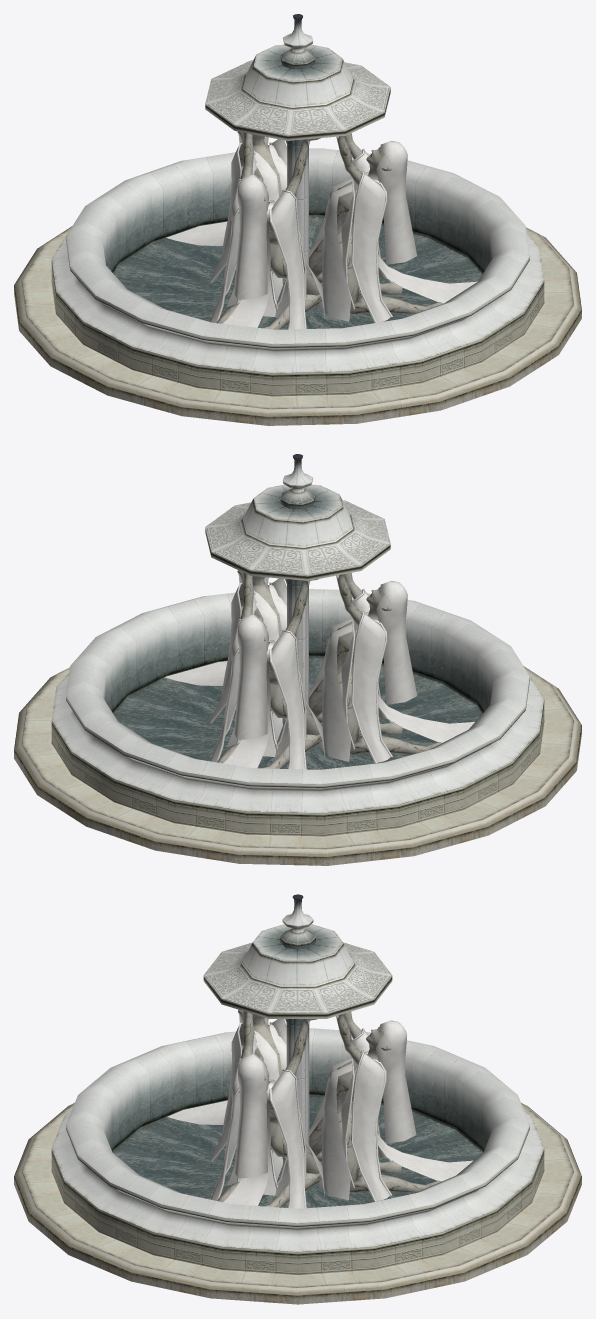
Rendered from fountain_001.fbx.
The picture shows the model from 3 angles, top to bottom: view 1: azimuth 30°, elevation 25°; view 2: azimuth 150°, elevation 25°; view 3: azimuth 270°, elevation 25°; orthographic projection.
Parts seen in each view (by area): view 1: polySurface28, polySurface30, polySurface29; view 2: polySurface28, polySurface30, polySurface29; view 3: polySurface28, polySurface30, polySurface29.
Boxes of the visible parts, bbox=[...] form: polySurface28: bbox=[14, 14, 581, 425]; polySurface30: bbox=[166, 132, 477, 329]; polySurface29: bbox=[216, 131, 443, 329]; polySurface28: bbox=[14, 454, 581, 865]; polySurface30: bbox=[165, 570, 474, 769]; polySurface29: bbox=[217, 570, 441, 768]; polySurface28: bbox=[14, 894, 581, 1304]; polySurface30: bbox=[167, 1009, 473, 1208]; polySurface29: bbox=[217, 1010, 441, 1207].
Bounding box in the file's own units: 16.57 × 9.97 × 16.57.
